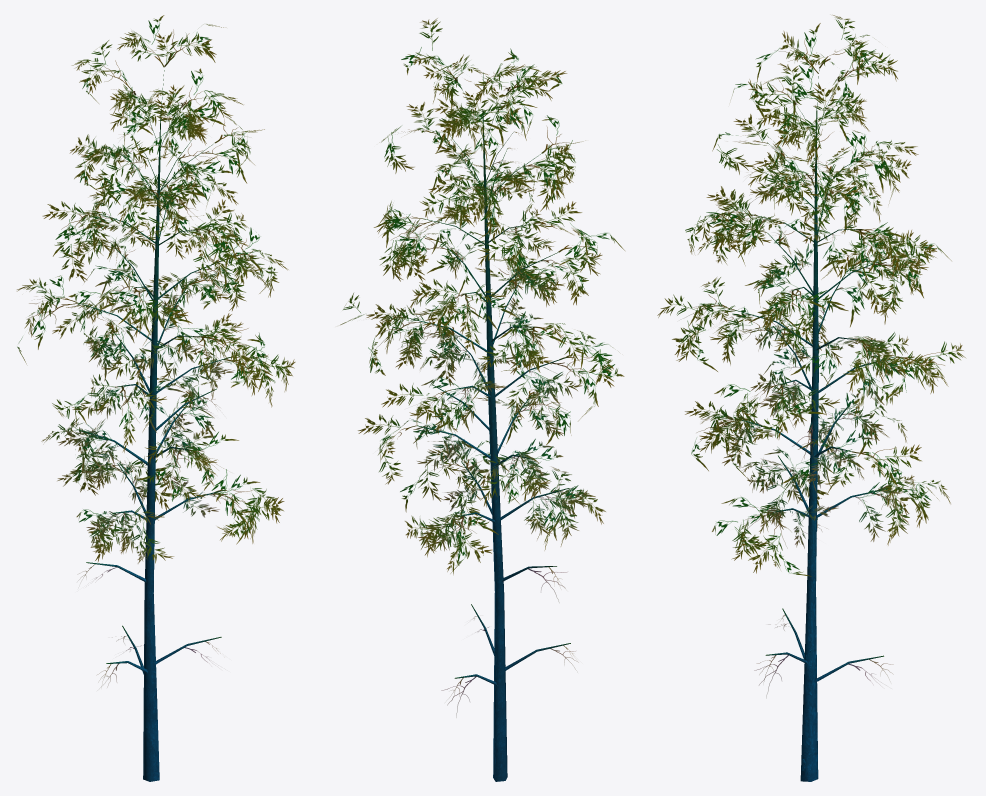
File: Eucalyptus_C.glb
3 views of the same model, side by side, from view 1: azimuth 30°, elevation 25°; view 2: azimuth 150°, elevation 25°; view 3: azimuth 270°, elevation 25° (orthographic). The views are drawn at different scales.
Visible parts, largest first — view 1: EucalyptusC_LOD0; view 2: EucalyptusC_LOD0; view 3: EucalyptusC_LOD0.
Boxes of the visible parts, x1,y1,x2,y2 form: EucalyptusC_LOD0: (17,15,295,781); EucalyptusC_LOD0: (340,18,624,781); EucalyptusC_LOD0: (657,15,965,781).
Size of what is drawn, in the model's own units: 9.48 by 25.91 by 9.74.
Materials: 2 (2 with a texture image).
